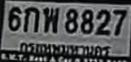2: (94, 9, 110, 35)
6: (8, 6, 20, 30)
7: (112, 9, 126, 35)
8: (64, 8, 77, 33), (80, 8, 92, 33)
A01: (23, 6, 39, 32)
A30: (43, 7, 58, 32)
BKK: (18, 39, 112, 58)
